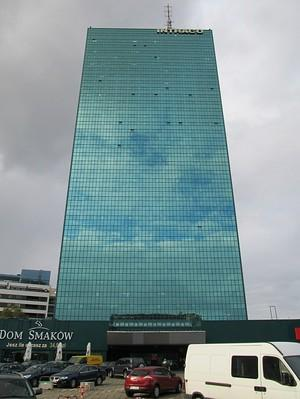building: (54, 23, 250, 322)
